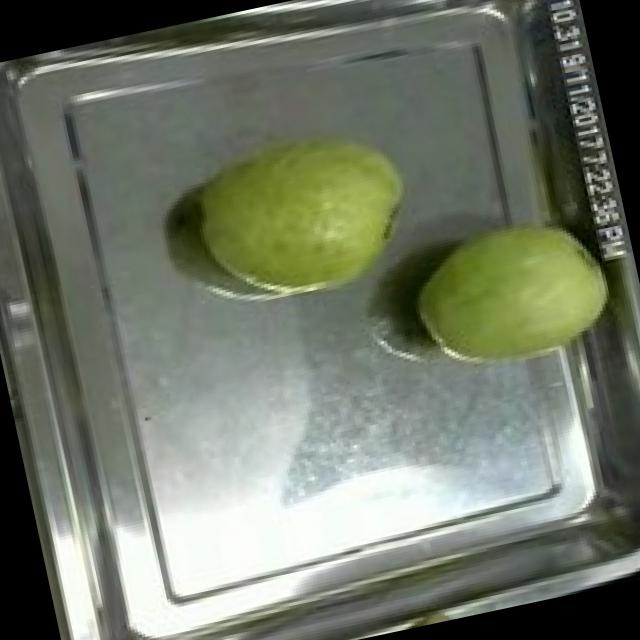Fruit: (172, 98, 433, 330), (390, 188, 633, 392)
